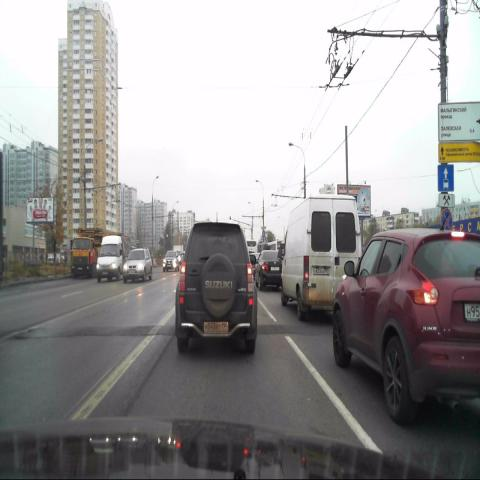5_14: (438, 164, 454, 191)
